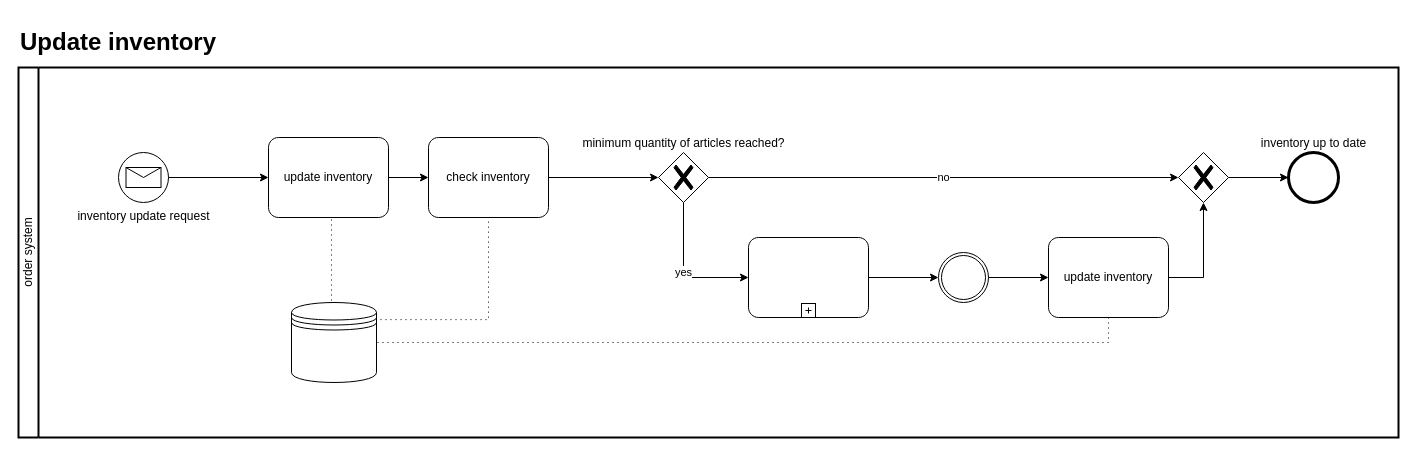
Image size: 1416x455. Some labels were removed from this diagram. The centre of each missing label's shape, as x and y in pixels:
inventory: (x=333, y=342)
order replenishment: (x=808, y=277)
replenishment arrived: (x=963, y=277)
